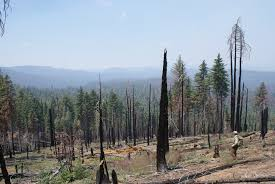smoke: (37, 17, 150, 98)
